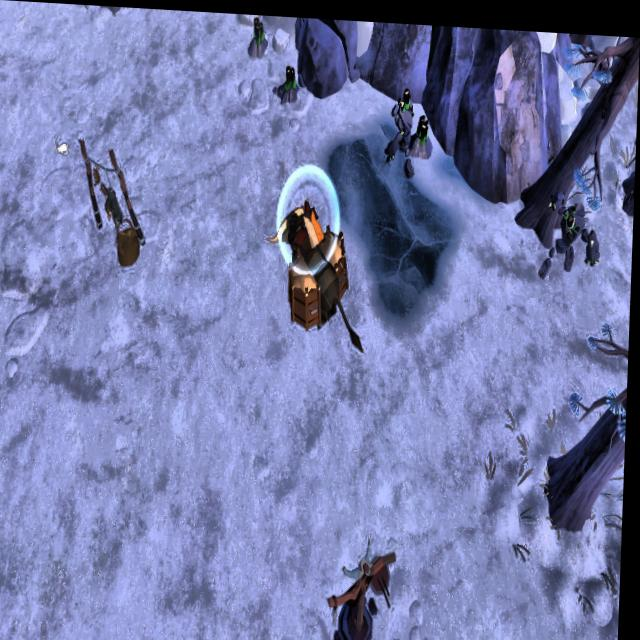ore_t3: (416, 103, 435, 144), (250, 12, 266, 48), (285, 59, 302, 92)
